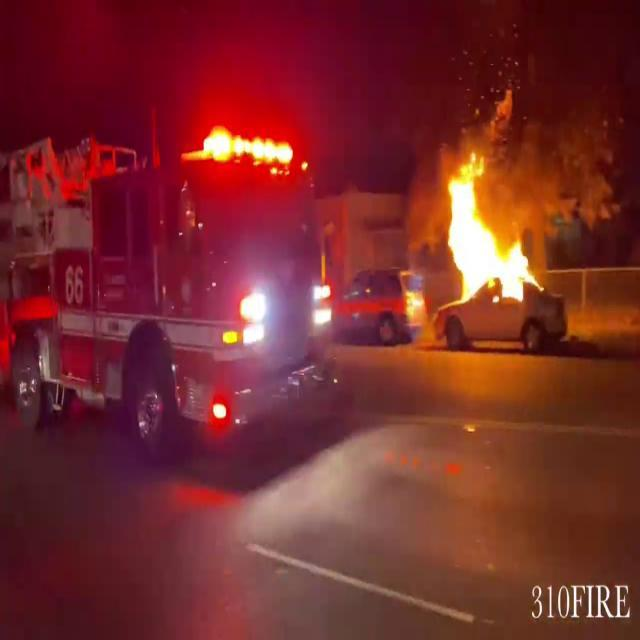Fire: (433, 150, 546, 306)
